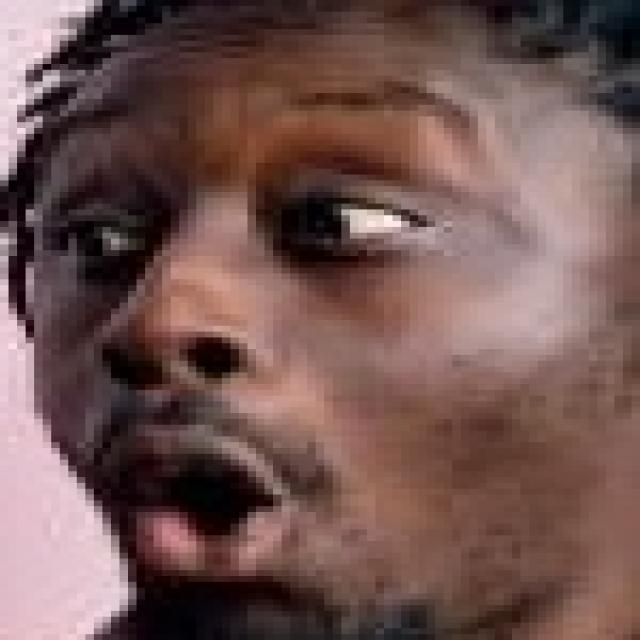Anxiety: (27, 13, 629, 634)
